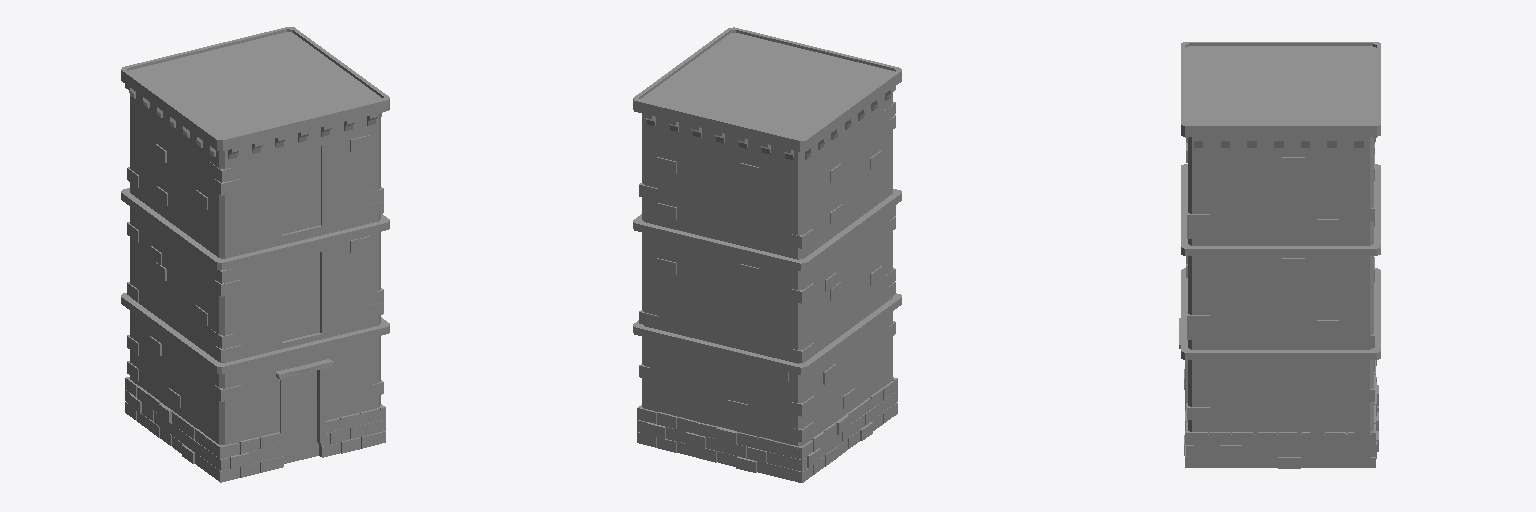
File: 3Story_Base.obj
3 views of the same model, side by side, from view 1: azimuth 30°, elevation 25°; view 2: azimuth 150°, elevation 25°; view 3: azimuth 270°, elevation 25° (orthographic).
Parts seen in each view (by area): view 1: 3Story_Base_Cube.058; view 2: 3Story_Base_Cube.058; view 3: 3Story_Base_Cube.058.
Part boxes in pixels (left/top/right/bottom): 3Story_Base_Cube.058: left=121, top=27, right=389, bottom=482; 3Story_Base_Cube.058: left=633, top=27, right=901, bottom=482; 3Story_Base_Cube.058: left=1179, top=42, right=1380, bottom=468.
Size of the model in its own units: 2.16 by 4.08 by 2.17.